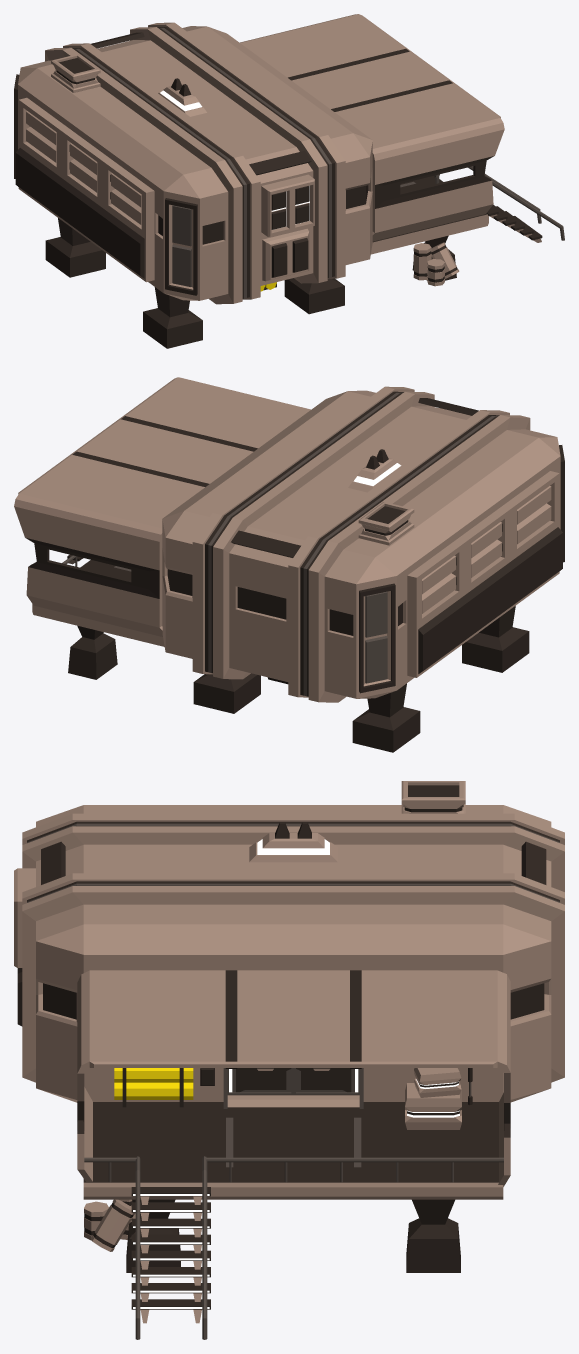
File: entrance.glb
The picture shows the model from 3 angles, top to bottom: view 1: azimuth 30°, elevation 25°; view 2: azimuth 150°, elevation 25°; view 3: azimuth 270°, elevation 25°; orthographic projection. The views are drawn at different scales.
Visible parts, largest first — view 1: Cube_0, Cube_1, Cube_2, Cube.004_0, Cube.003_0, Cube.001_1; view 2: Cube_0, Cube_1, Cube_2; view 3: Cube_0, Cube_1, Cube_2, Cube.001_1, Cube.003_0, Cube.002_1, Cube.004_0, Cube.001_2, Cube.001_0, Cube_3.
Boxes of the visible parts, box(x1,y1,x2,y2) form: Cube_0: box(18, 14, 504, 304); Cube_1: box(14, 27, 493, 348); Cube_2: box(73, 27, 415, 298); Cube.004_0: box(413, 242, 459, 286); Cube.003_0: box(434, 166, 564, 240); Cube.001_1: box(486, 204, 542, 240); Cube_0: box(14, 377, 560, 702); Cube_1: box(26, 391, 564, 752); Cube_2: box(114, 392, 498, 696); Cube_0: box(14, 781, 564, 1199); Cube_1: box(17, 785, 559, 1272); Cube_2: box(27, 823, 559, 1167); Cube.001_1: box(131, 1187, 210, 1309); Cube.003_0: box(84, 1156, 503, 1339); Cube.002_1: box(114, 1068, 193, 1099); Cube.004_0: box(84, 1199, 135, 1251); Cube.001_2: box(133, 1194, 209, 1308); Cube.001_0: box(140, 1196, 201, 1323); Cube_3: box(229, 839, 459, 1117).
Bounding box in the file's own units: 1.25 × 0.5702 × 0.9588.
